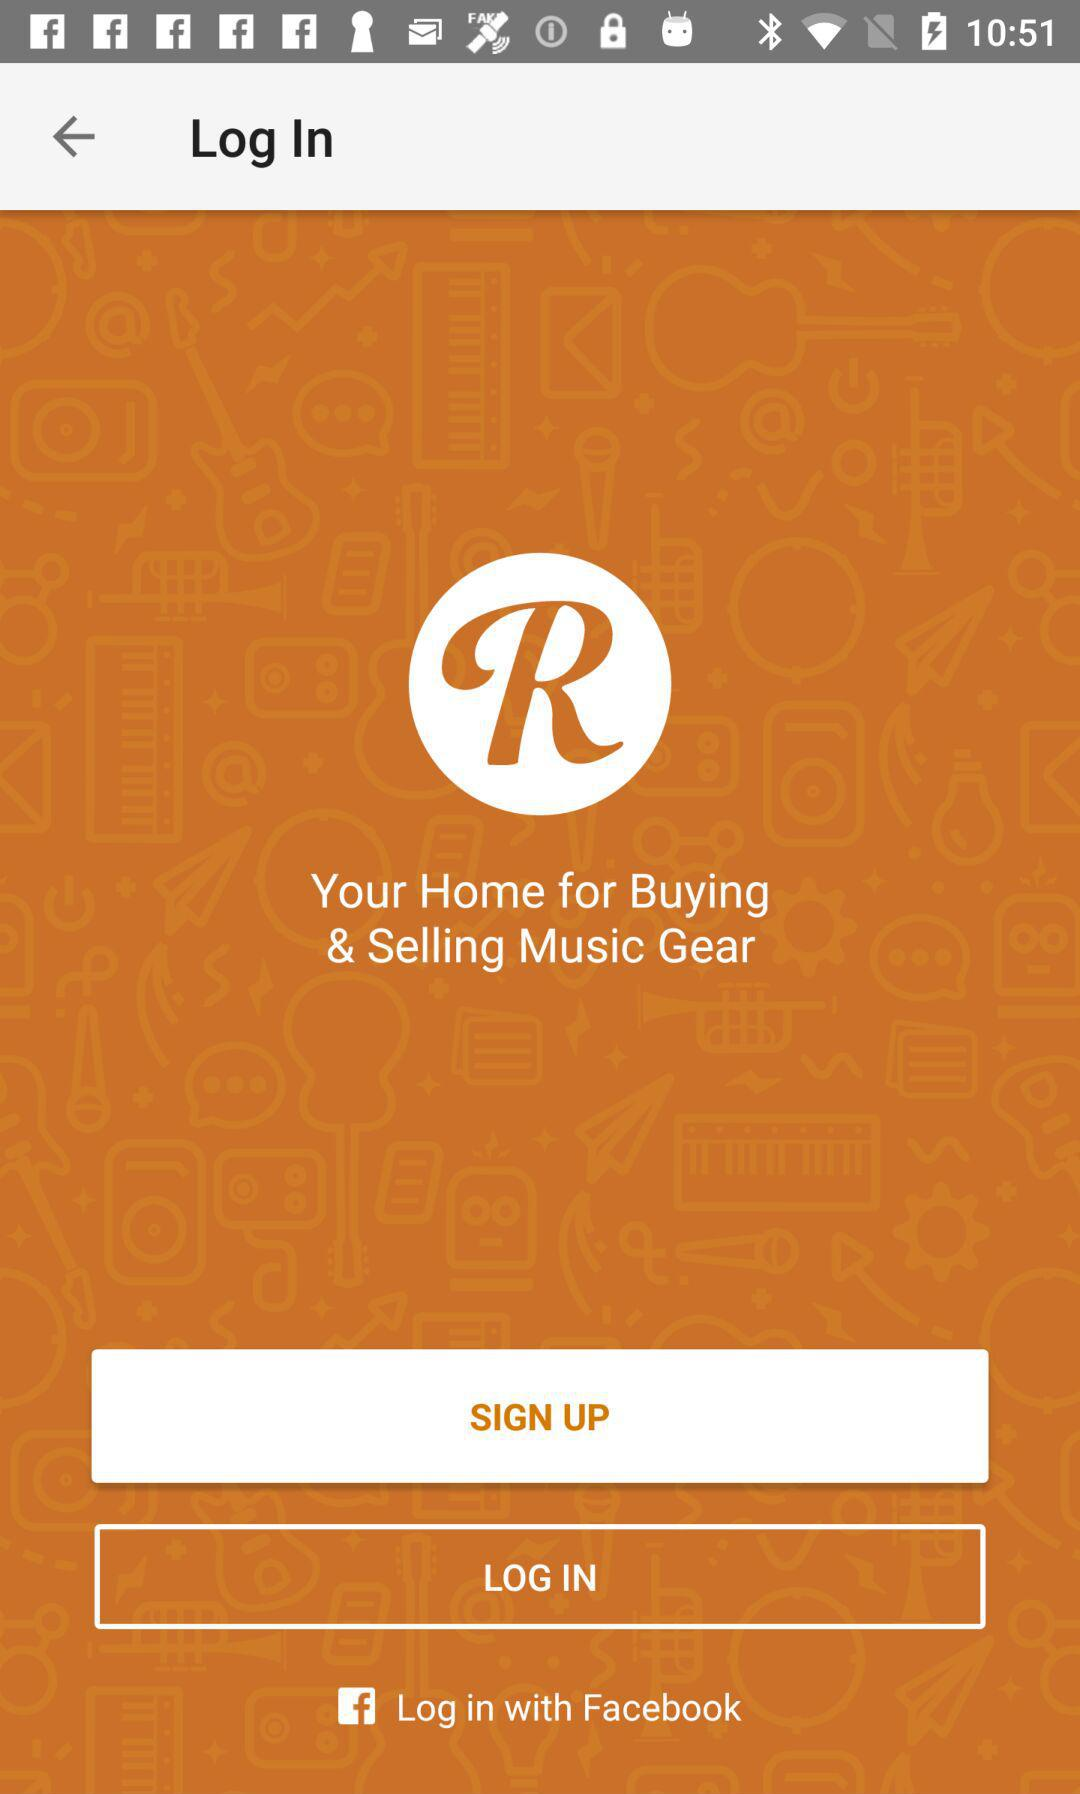Icon: (53, 117, 97, 160), (338, 1686, 377, 1727)
Image: (407, 554, 673, 818)
Text: (309, 871, 770, 974), (398, 1691, 743, 1730), (192, 119, 334, 170)
TextButton: (92, 1349, 989, 1484), (94, 1524, 986, 1631)
Toolbar: (3, 64, 1080, 211)
UpperTaskBar: (1, 1, 1080, 64)
